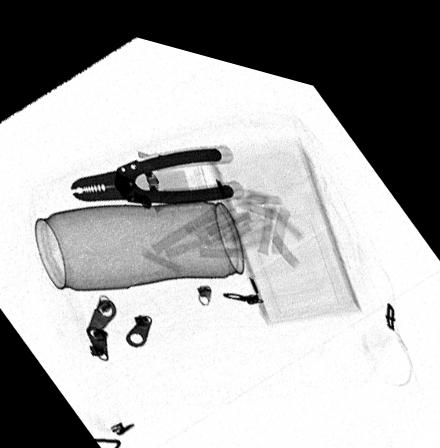Pliers: (69, 135, 234, 199)
